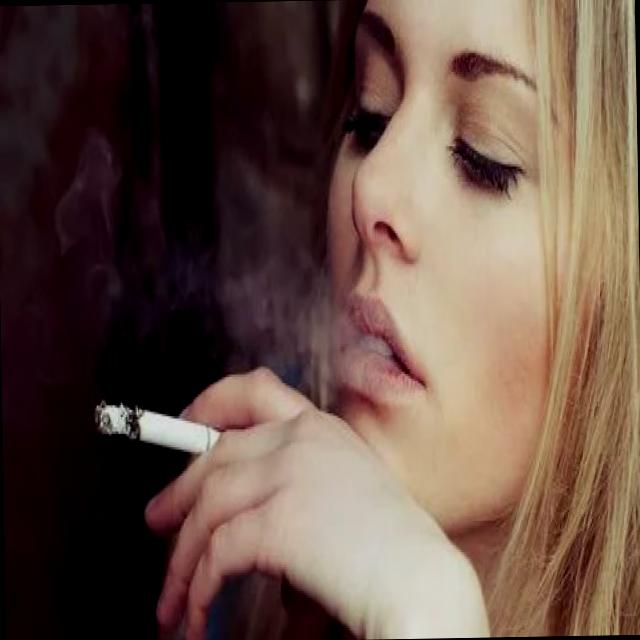cigarette: (86, 396, 226, 463)
